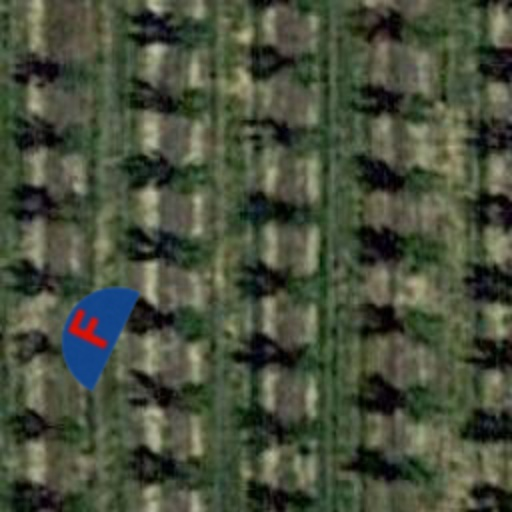semicircle: (18, 256, 166, 404)
